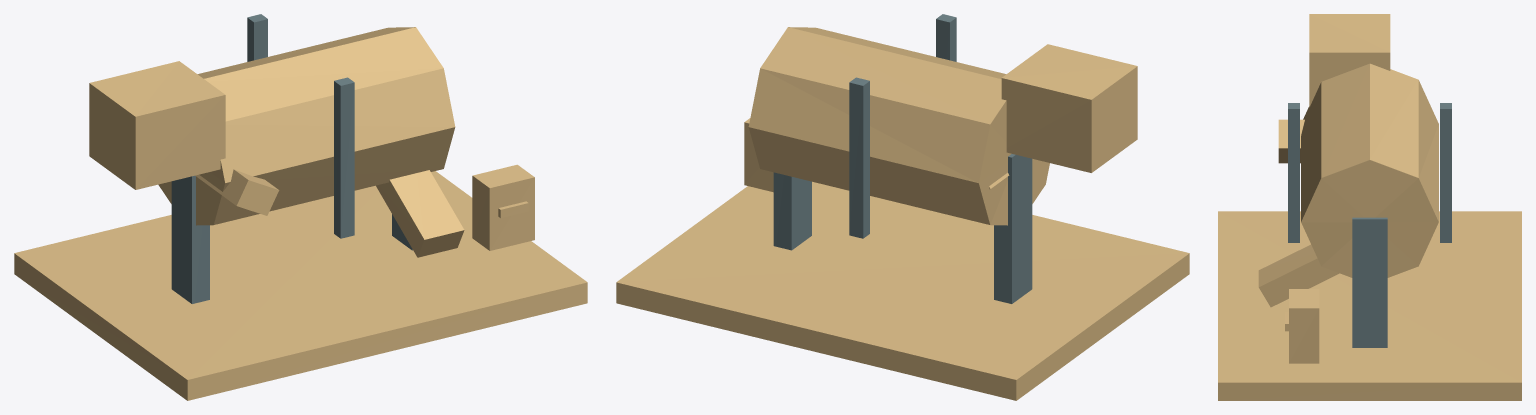
Rendered from soil-mixing-station.source.glb.
3 renders of one model, left to right at view 1: azimuth 30°, elevation 25°; view 2: azimuth 150°, elevation 25°; view 3: azimuth 270°, elevation 25°, orthographic. The views are drawn at different scales.
Parts seen in each view (by area): view 1: soil-mixing-station-concrete-pad-mesh, soil-mixing-station-horizontal-mixing-drum-mesh, soil-mixing-station-hopper-mesh, soil-mixing-station-outlet-chute-mesh, soil-mixing-station-control-box-mesh, soil-mixing-station-support--1.1-mesh, soil-mixing-station-drum-band-0.75-mesh, soil-mixing-station-feed-chute-mesh, soil-mixing-station-drum-band--0.75-mesh; view 2: soil-mixing-station-concrete-pad-mesh, soil-mixing-station-horizontal-mixing-drum-mesh, soil-mixing-station-hopper-mesh, soil-mixing-station-support--1.1-mesh, soil-mixing-station-drum-band--0.75-mesh, soil-mixing-station-support-1.1-mesh, soil-mixing-station-control-box-mesh, soil-mixing-station-drum-band-0.75-mesh; view 3: soil-mixing-station-concrete-pad-mesh, soil-mixing-station-horizontal-mixing-drum-mesh, soil-mixing-station-hopper-mesh, soil-mixing-station-support-1.1-mesh, soil-mixing-station-outlet-chute-mesh, soil-mixing-station-control-box-mesh, soil-mixing-station-drum-band--0.75-mesh, soil-mixing-station-drum-band-0.75-mesh, soil-mixing-station-feed-chute-mesh.
Boxes of the visible parts, left/top/right/bottom form: soil-mixing-station-concrete-pad-mesh: left=14, top=171, right=587, bottom=400; soil-mixing-station-horizontal-mixing-drum-mesh: left=158, top=27, right=455, bottom=225; soil-mixing-station-hopper-mesh: left=89, top=61, right=225, bottom=189; soil-mixing-station-outlet-chute-mesh: left=376, top=170, right=464, bottom=257; soil-mixing-station-control-box-mesh: left=472, top=164, right=534, bottom=250; soil-mixing-station-support--1.1-mesh: left=171, top=175, right=209, bottom=303; soil-mixing-station-drum-band-0.75-mesh: left=334, top=77, right=354, bottom=238; soil-mixing-station-feed-chute-mesh: left=195, top=169, right=279, bottom=215; soil-mixing-station-drum-band--0.75-mesh: left=247, top=14, right=267, bottom=61; soil-mixing-station-concrete-pad-mesh: left=616, top=181, right=1189, bottom=400; soil-mixing-station-horizontal-mixing-drum-mesh: left=748, top=27, right=1049, bottom=225; soil-mixing-station-hopper-mesh: left=1001, top=44, right=1137, bottom=172; soil-mixing-station-support--1.1-mesh: left=994, top=154, right=1032, bottom=303; soil-mixing-station-drum-band--0.75-mesh: left=849, top=77, right=869, bottom=238; soil-mixing-station-support-1.1-mesh: left=773, top=172, right=811, bottom=250; soil-mixing-station-control-box-mesh: left=744, top=118, right=773, bottom=192; soil-mixing-station-drum-band-0.75-mesh: left=936, top=14, right=956, bottom=61; soil-mixing-station-concrete-pad-mesh: left=1218, top=211, right=1521, bottom=400; soil-mixing-station-horizontal-mixing-drum-mesh: left=1301, top=63, right=1438, bottom=277; soil-mixing-station-hopper-mesh: left=1309, top=14, right=1390, bottom=107; soil-mixing-station-support-1.1-mesh: left=1352, top=217, right=1387, bottom=347; soil-mixing-station-outlet-chute-mesh: left=1258, top=244, right=1339, bottom=307; soil-mixing-station-control-box-mesh: left=1289, top=289, right=1319, bottom=363; soil-mixing-station-drum-band--0.75-mesh: left=1440, top=103, right=1451, bottom=242; soil-mixing-station-drum-band-0.75-mesh: left=1288, top=103, right=1299, bottom=242; soil-mixing-station-feed-chute-mesh: left=1278, top=119, right=1304, bottom=163.
Size of the model in its own units: 4 by 2.35 by 3.
